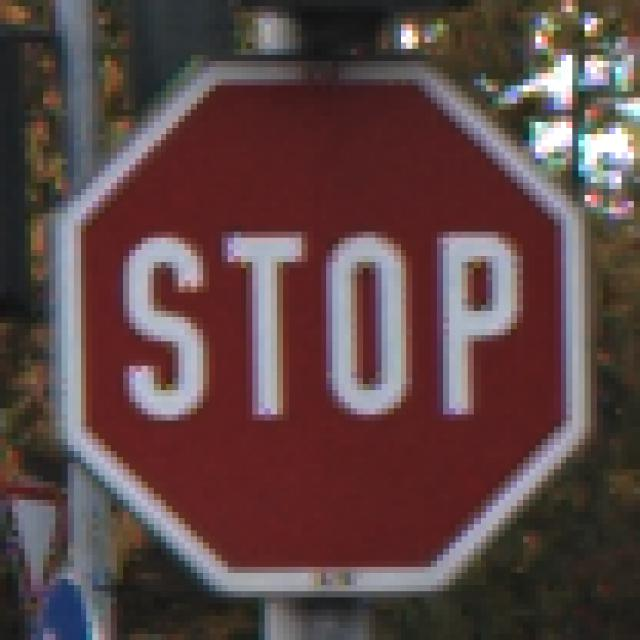STOP: (63, 56, 586, 586)
